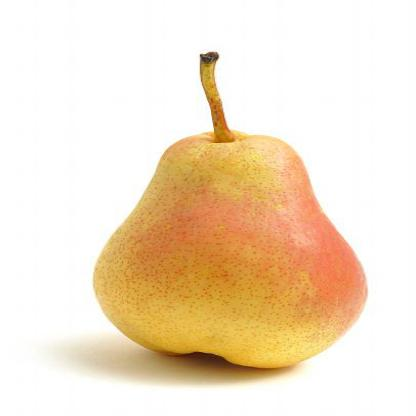Paer: (95, 47, 390, 372)
